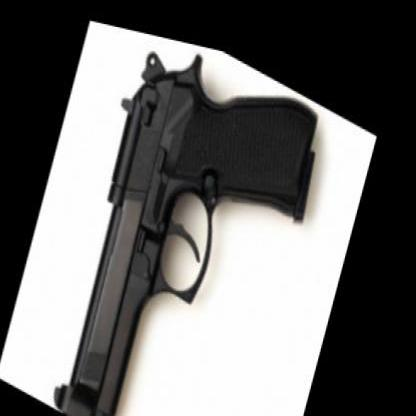pistol: (46, 14, 336, 413)
